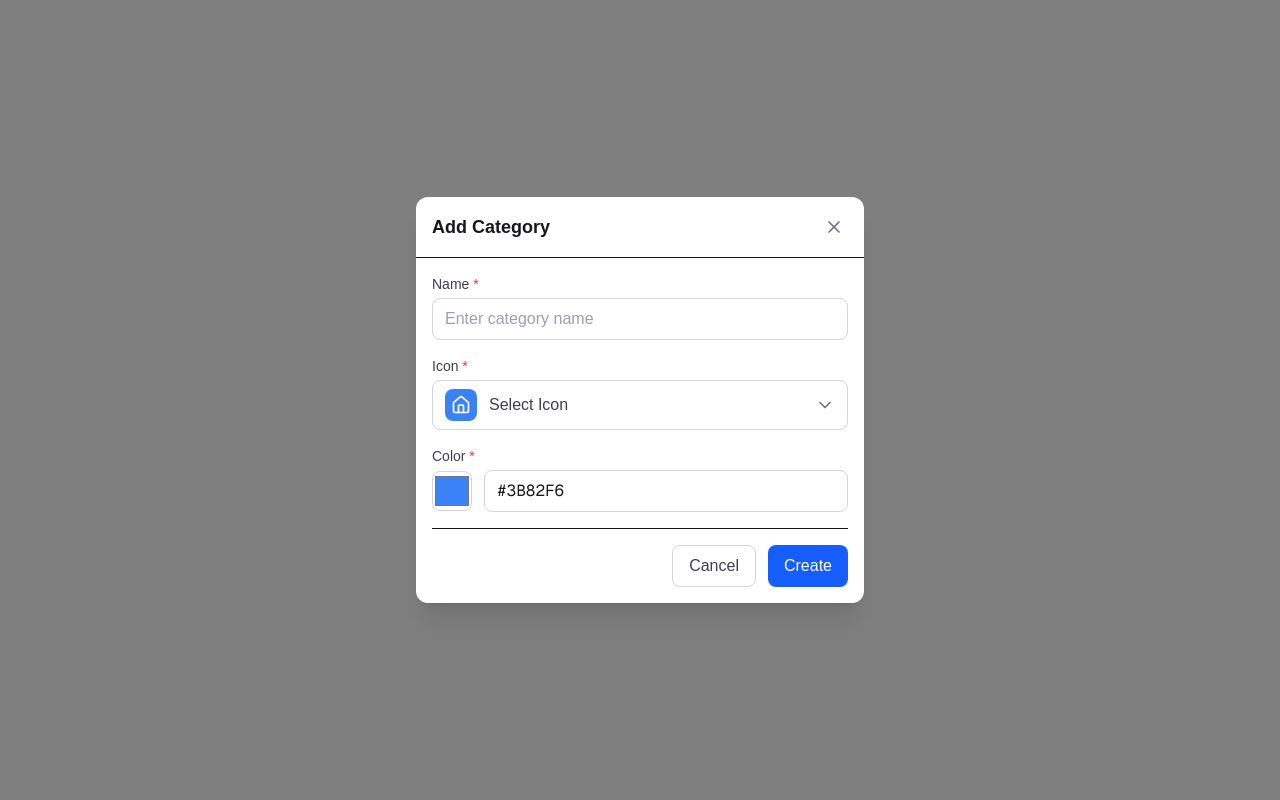
Test case: CategoryForm › shows validation error for empty icon
In the field labelled "Name *": (640, 319) 432,298 -> 848,340, type "Food"
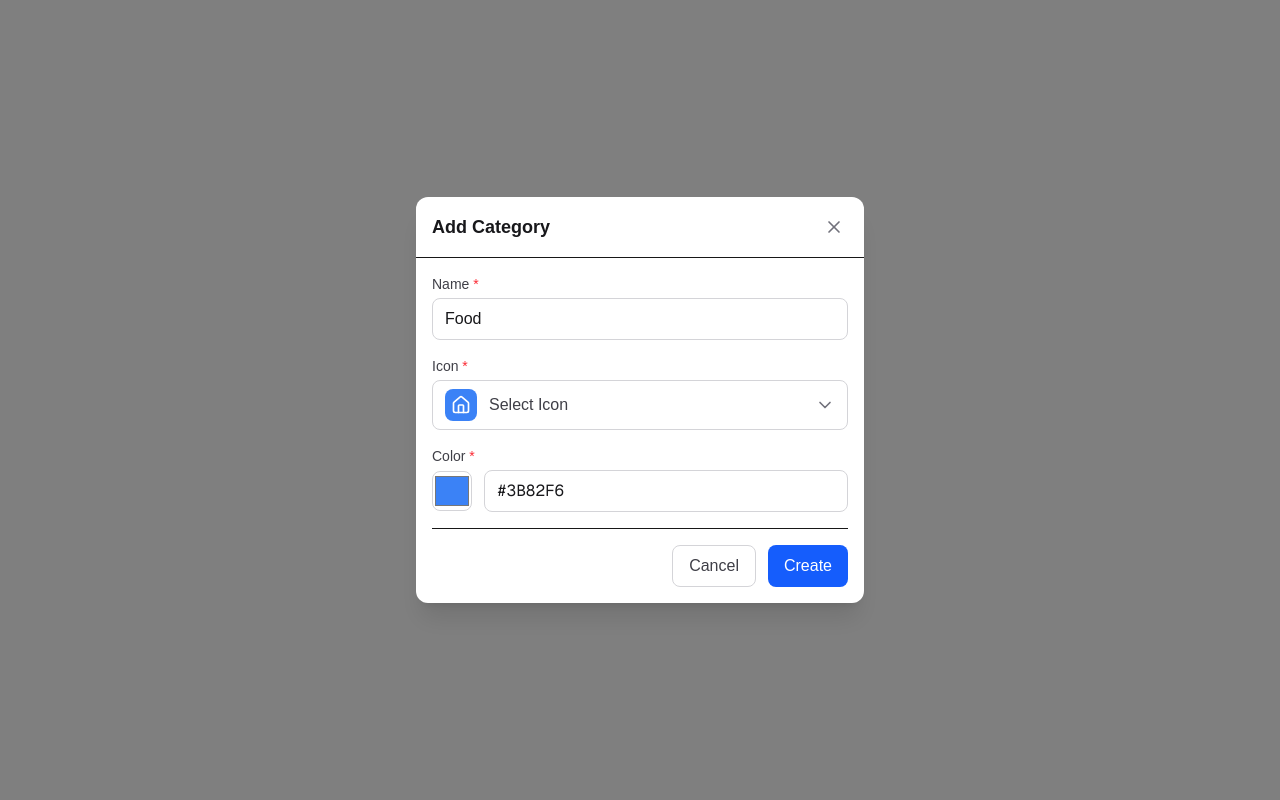
Click the button "Create": (808, 566) 768,545 -> 848,587
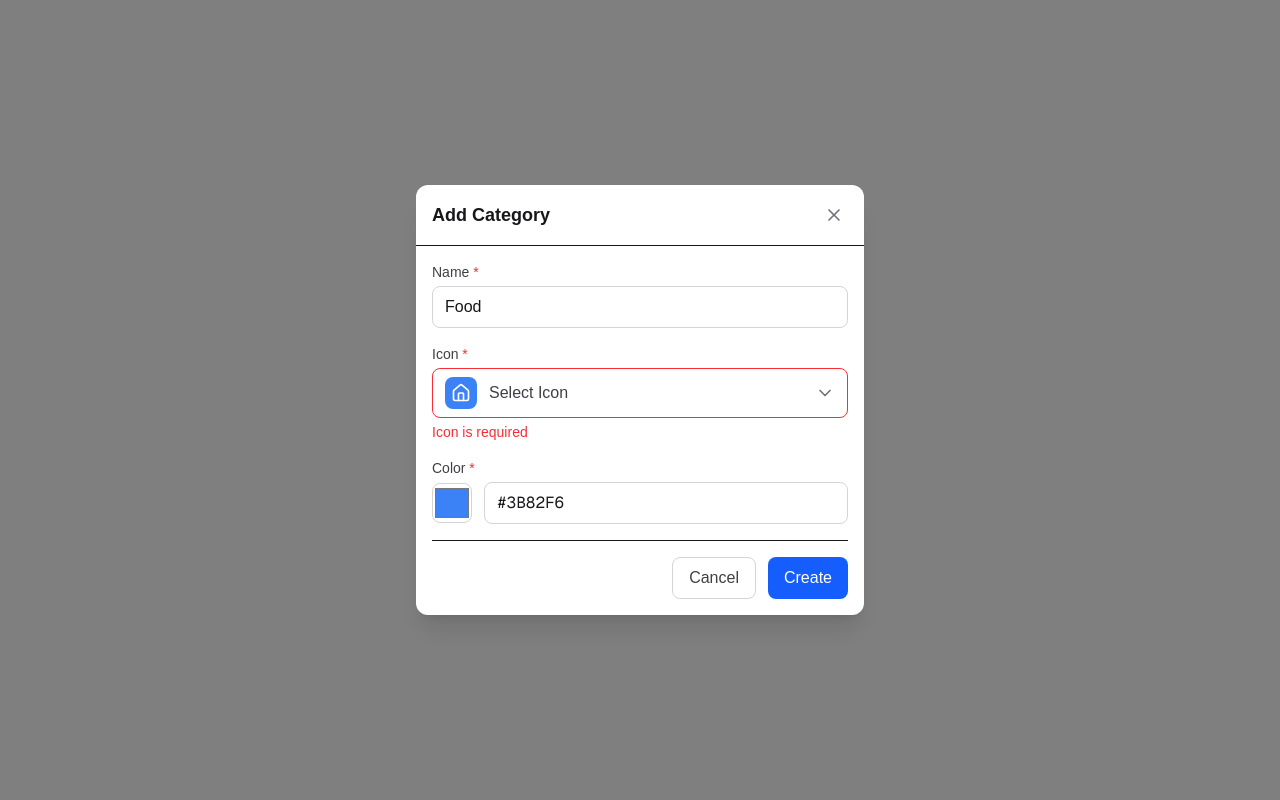
Expected: the text "Icon is required" is shown, 432,424 -> 528,440
